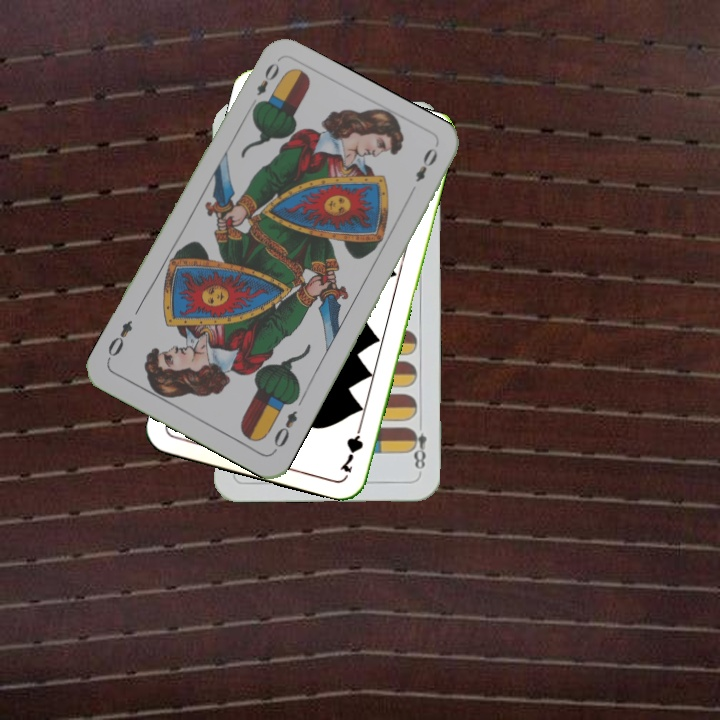E8: (406, 416, 429, 475)
EO: (246, 58, 282, 113), (269, 406, 300, 455)
G7: (336, 417, 366, 475)
